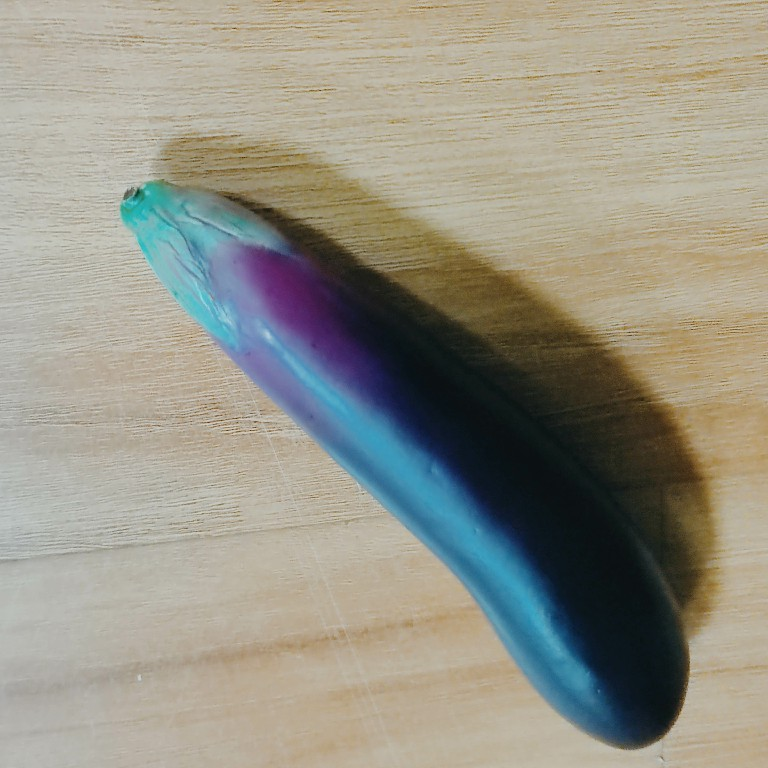fruit_eggplant: (113, 174, 694, 753)
